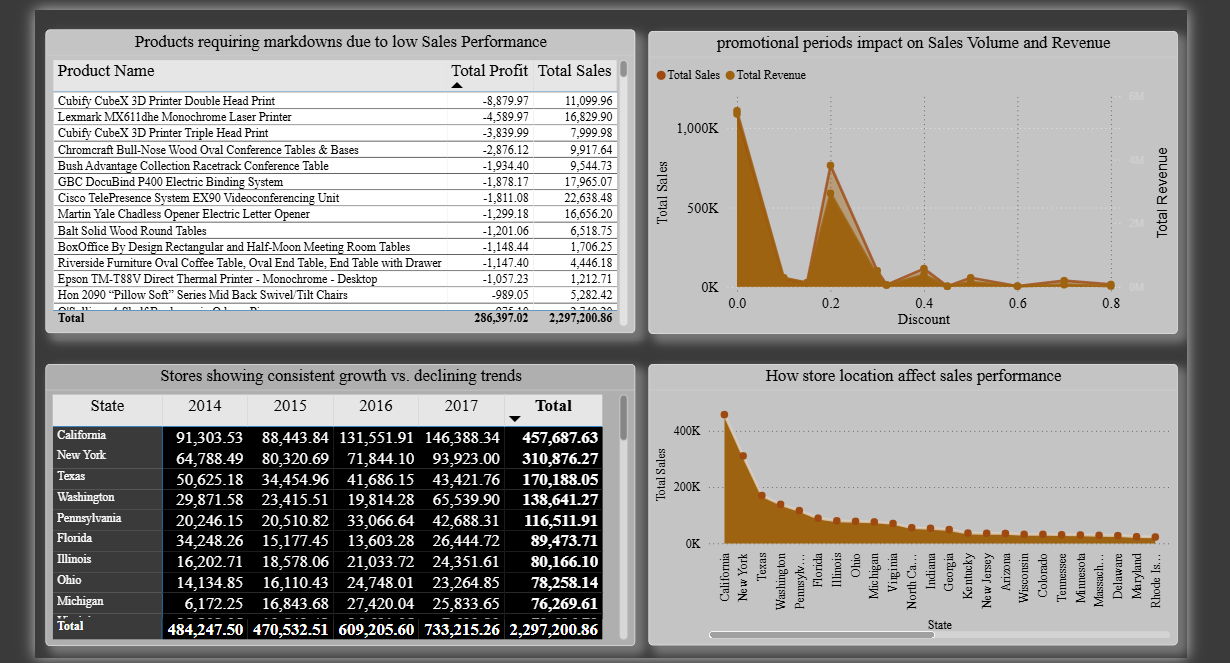

This screenshot's page, from the dashboard's own definition file:
{"tool":"powerbi","page":{"name":"Page 3","canvas":[1280,720],"ordinal":2},"visuals":[{"type":"tableEx","title":" Products requiring markdowns due to low Sales Performance","fields":{"Values":["Sample - Superstore.Product Name","Sample - Superstore.Total Profit","Sample - Superstore.Total Sales"]},"box":[11.1,22.3,655.3,337.2],"z":0},{"type":"pivotTable","title":"Stores showing consistent growth vs. declining trends","fields":{"Values":["Sample - Superstore.Total Sales"],"Columns":["Date Table.Date.Variation.Date Hierarchy.Year"],"Rows":["Sample - Superstore.State"]},"box":[11.1,392.9,655.3,313.4],"z":1000},{"type":"lineChart","title":"How store location affect sales performance","fields":{"Category":["Sample - Superstore.State"],"Y":["Sample - Superstore.Total Sales"]},"box":[681.7,393.5,587.8,312.5],"z":2000},{"type":"lineChart","title":"promotional periods impact on Sales Volume and Revenue","fields":{"Category":["Sample - Superstore.Discount"],"Y":["Sample - Superstore.Total Sales"],"Y2":["Sample - Superstore.Total Revenue"]},"box":[681.7,22.7,587.8,336.8],"z":3000}]}

Visuals, with their boxes on the page's 1280x720 design canvas (x1, y1, x2, y2). These are canvas units, not pixel positions in the 1230x663 screenshot, which may show the page scaled, cropped or inside an application window:
" Products requiring markdowns due to low Sales Performance" tableEx: bbox=[11, 22, 666, 360]
"Stores showing consistent growth vs. declining trends" pivotTable: bbox=[11, 393, 666, 706]
"How store location affect sales performance" lineChart: bbox=[682, 394, 1270, 706]
"promotional periods impact on Sales Volume and Revenue" lineChart: bbox=[682, 23, 1270, 360]
